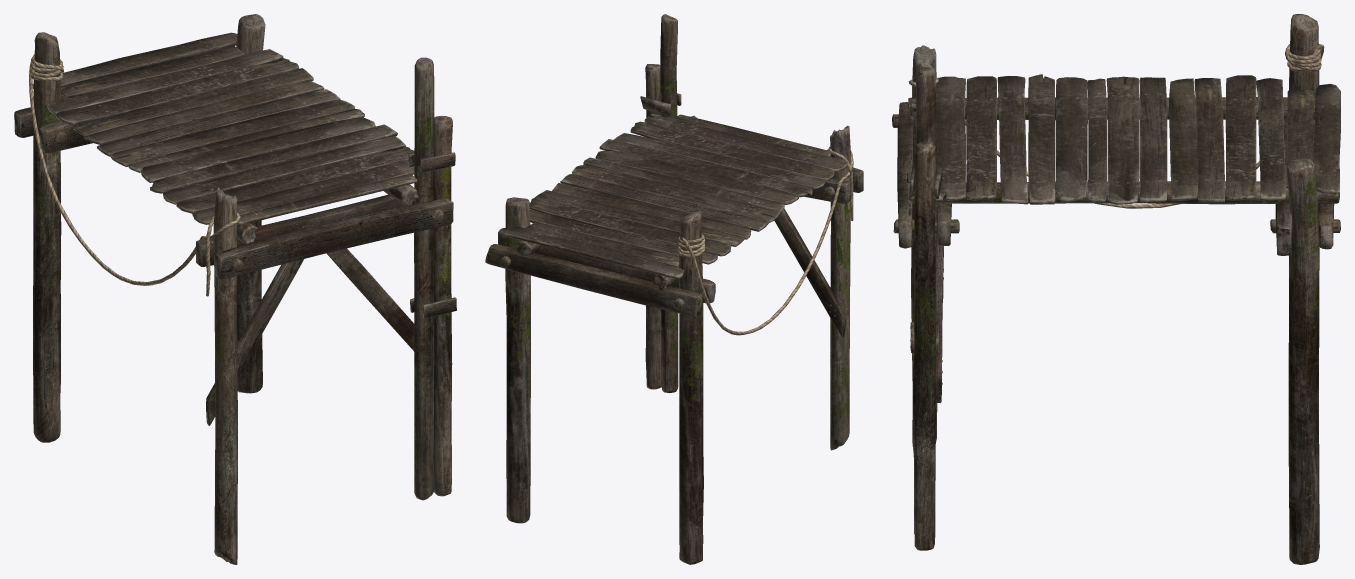
The model's file is modular_wooden_pier_section_01.gltf.
3 views of the same model, side by side, from view 1: azimuth 30°, elevation 25°; view 2: azimuth 150°, elevation 25°; view 3: azimuth 270°, elevation 25° (orthographic). The views are drawn at different scales.
Visible parts, largest first — view 1: modular_wooden_pier_section_01__x; view 2: modular_wooden_pier_section_01__x; view 3: modular_wooden_pier_section_01__x.
Part boxes in pixels (left/top/right/bottom): modular_wooden_pier_section_01__x: left=14, top=14, right=456, bottom=564; modular_wooden_pier_section_01__x: left=485, top=14, right=863, bottom=564; modular_wooden_pier_section_01__x: left=892, top=14, right=1340, bottom=564.
Size of the model in its own units: 2.49 by 4.27 by 3.52.
2 materials, 2 textured.
